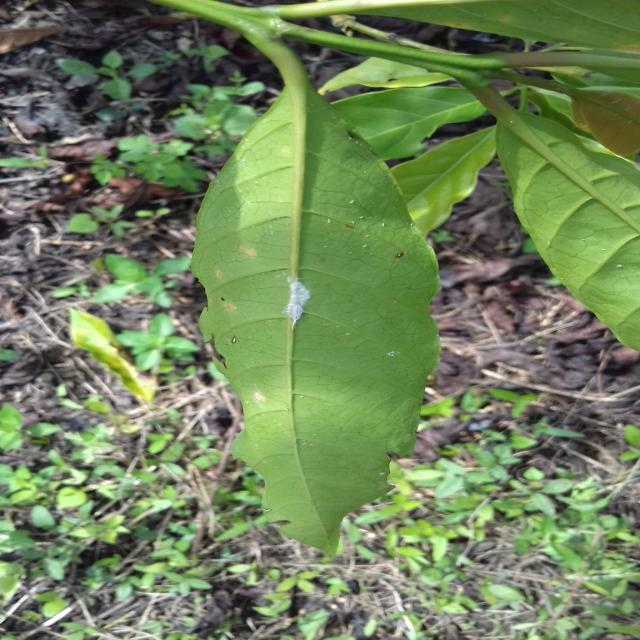Enfermedad-Roya: (188, 32, 441, 539)
